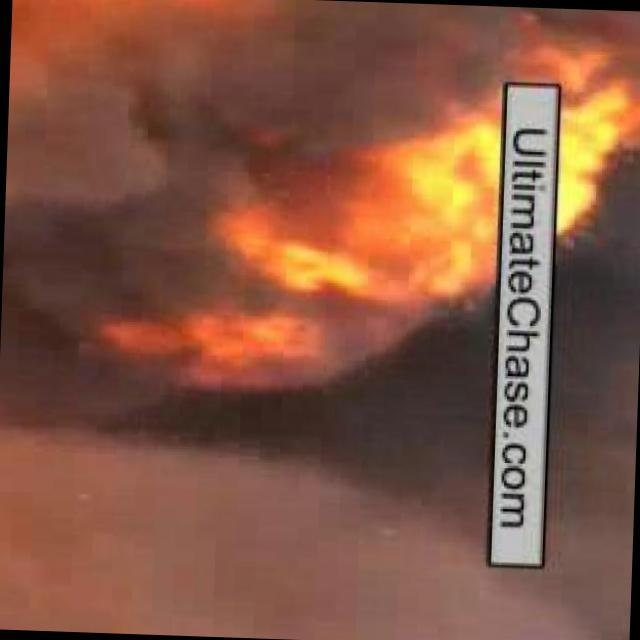Fire: (1, 1, 640, 378)
